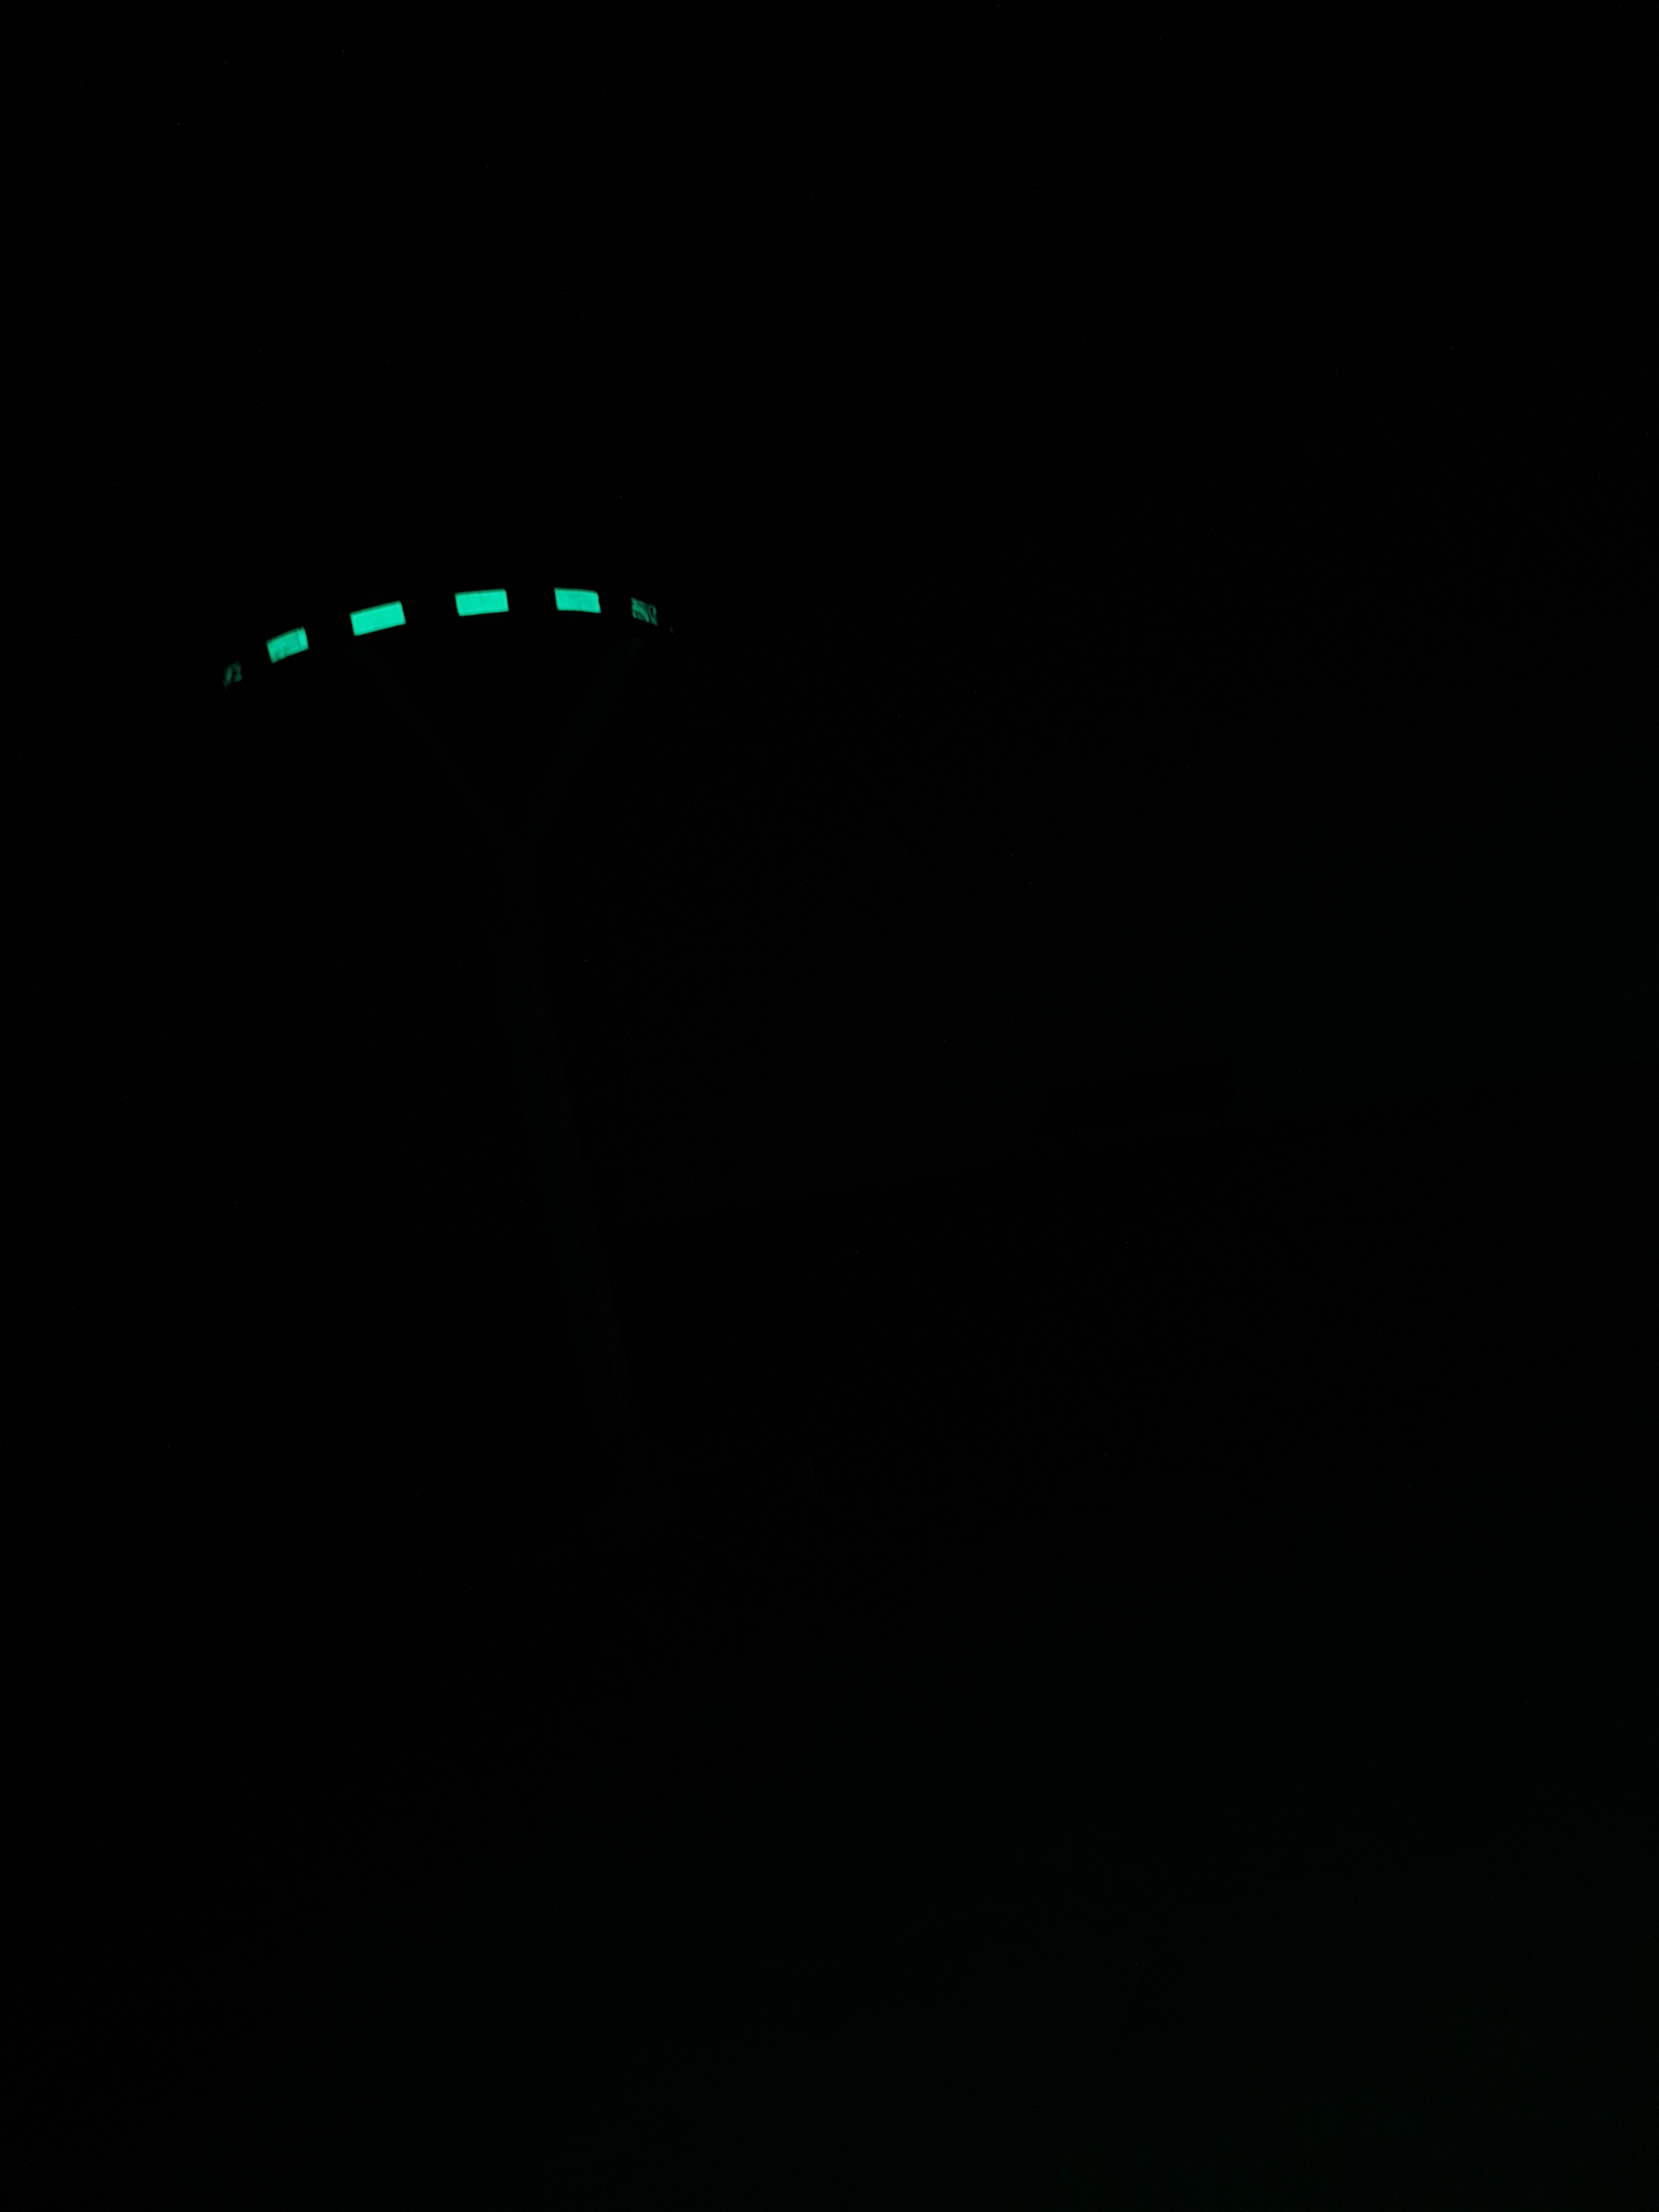hoop: (225, 585, 659, 686)
